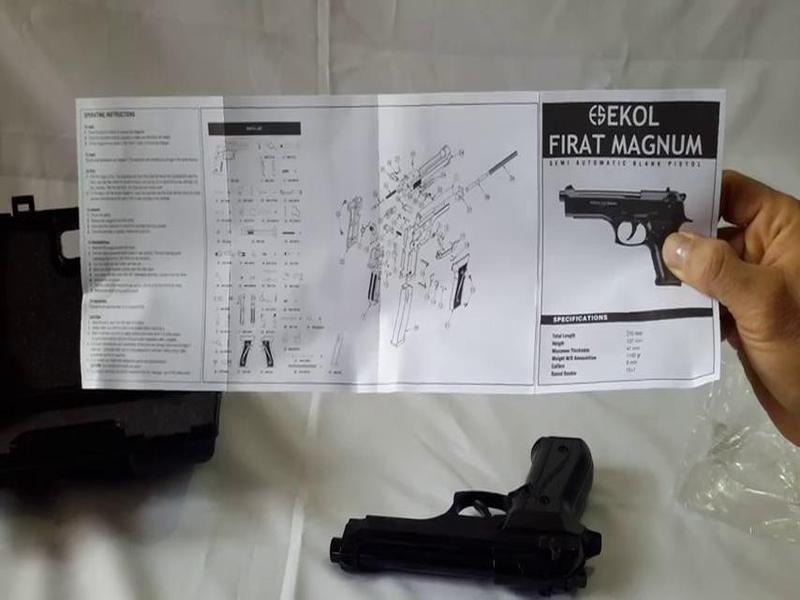Pistola: (315, 415, 618, 600)
